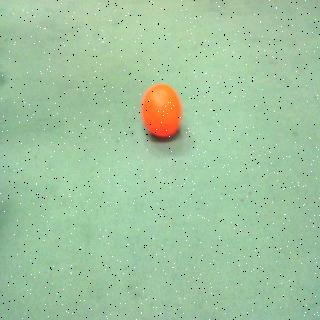orange: (134, 79, 186, 144)
